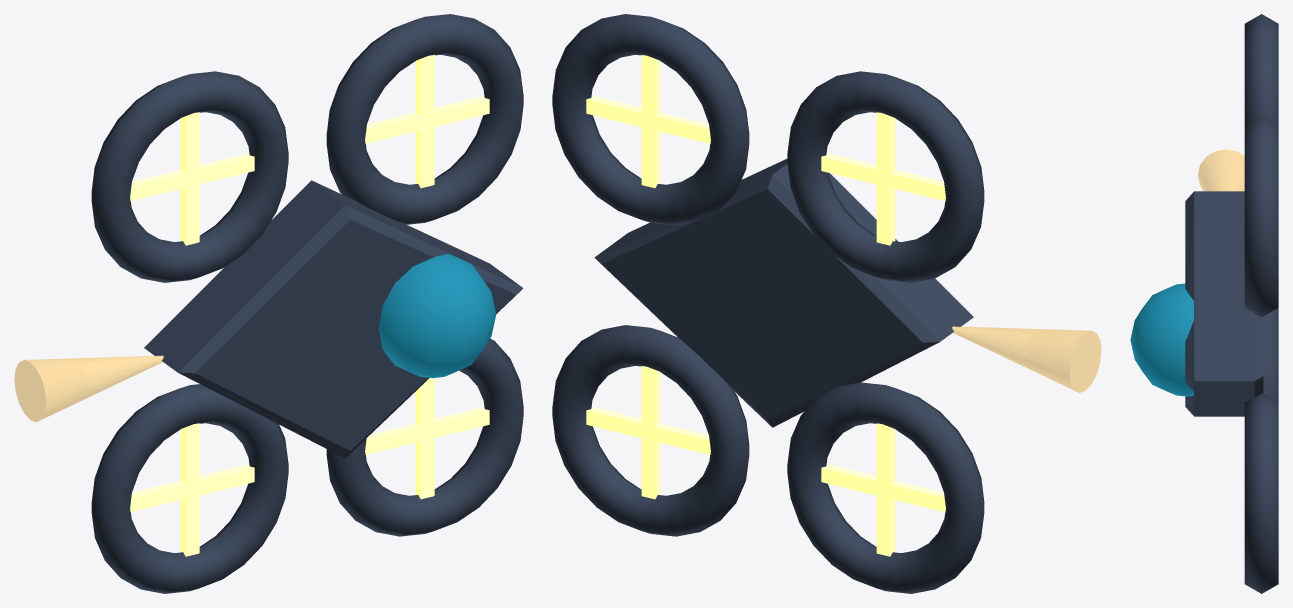
Rendered from wisp-drone.glb.
3 views of the same model, side by side, from view 1: azimuth 30°, elevation 25°; view 2: azimuth 150°, elevation 25°; view 3: azimuth 270°, elevation 25° (orthographic). The views are drawn at different scales.
Visible parts, largest first — view 1: Wisp / survey drone, thruster; view 2: Wisp / survey drone, thruster; view 3: Wisp / survey drone, thruster.
Boxes of the visible parts, left/top/right/bottom form: Wisp / survey drone: left=91, top=14, right=523, bottom=593; thruster: left=14, top=355, right=163, bottom=421; Wisp / survey drone: left=552, top=14, right=984, bottom=593; thruster: left=952, top=326, right=1101, bottom=392; Wisp / survey drone: left=1130, top=14, right=1278, bottom=593; thruster: left=1198, top=149, right=1244, bottom=191.
Bounding box in the file's own units: 1.48 × 1.43 × 0.4176.
